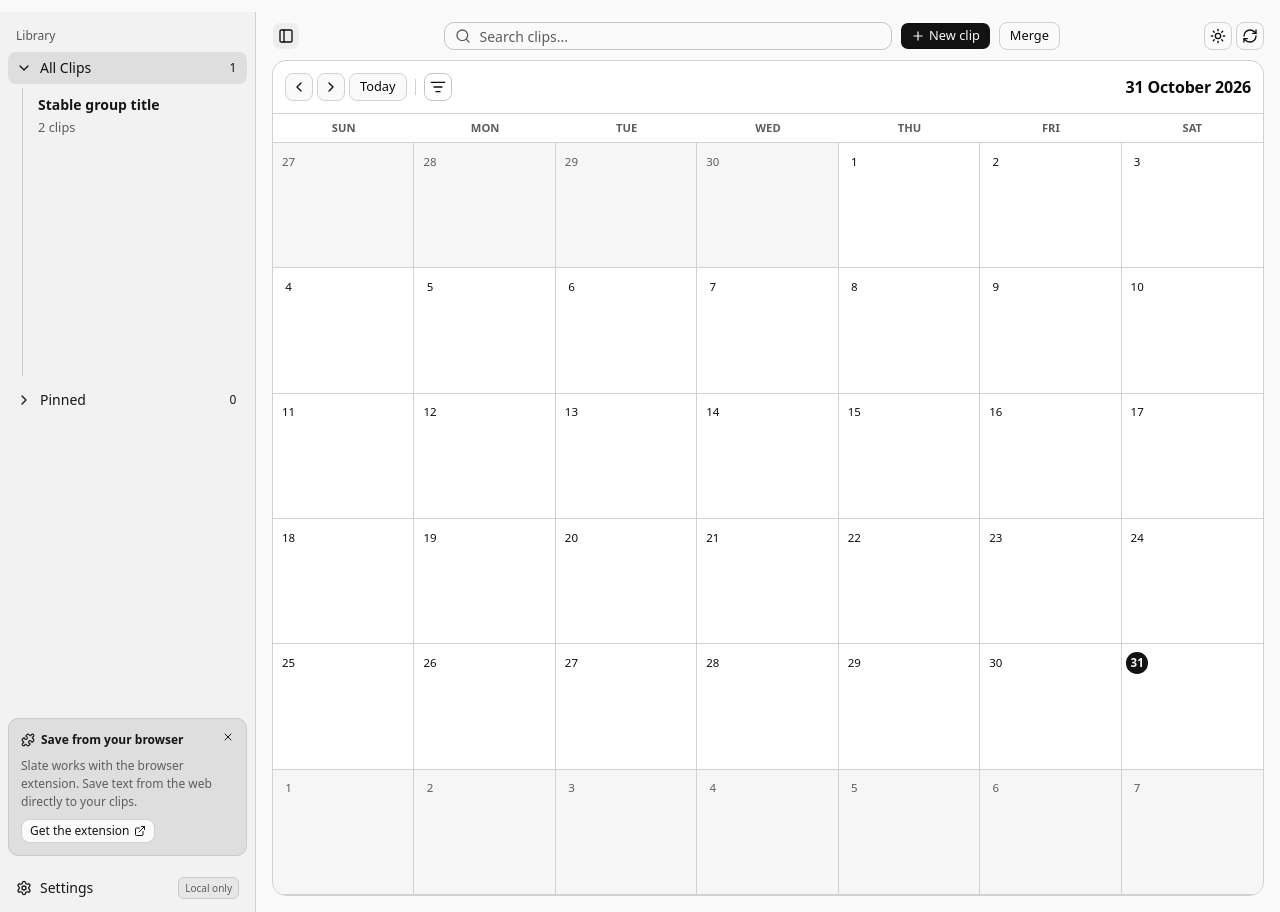
Test: native Close waits for save and hides only on success (failure: true)
Click the button "Stable group title 2 clips". click: (138, 116)
box: [29,88,247,144]
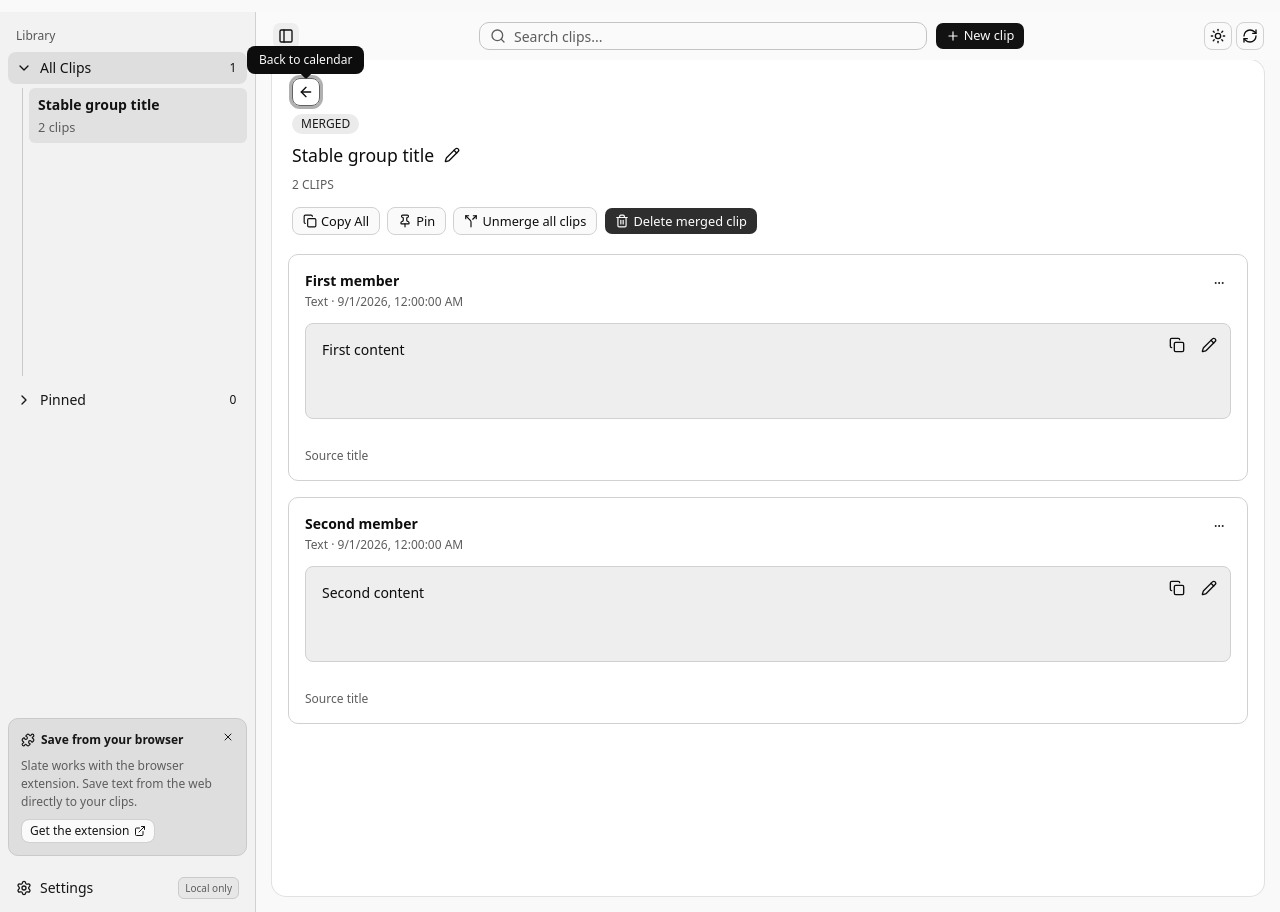
Now the heading "Stable group title" is shown, box [292,143,434,167]
Click the button named "Edit content: First member". click: (1209, 345)
box: [1195,331,1223,359]
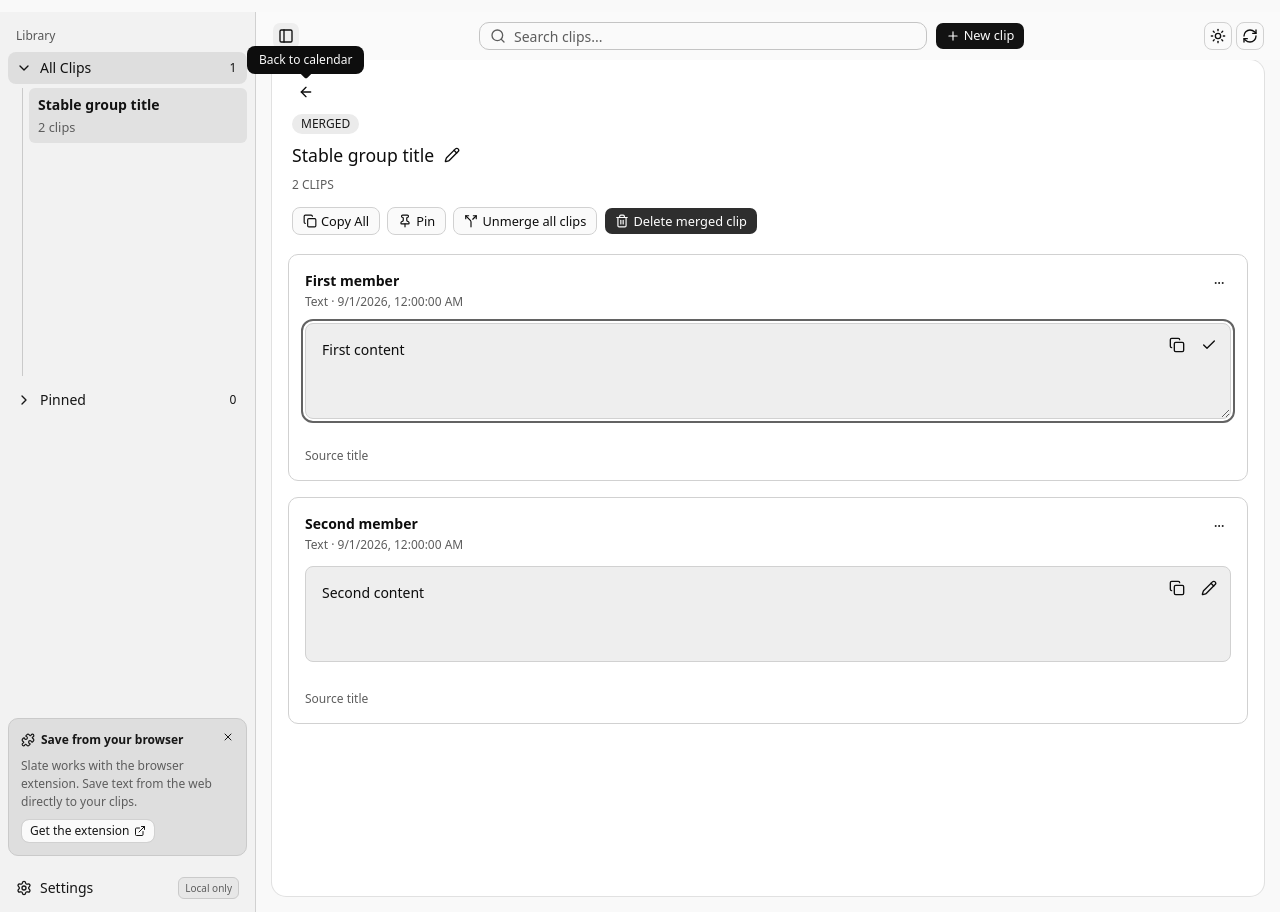
Replace the text in the text box named "Clip content: First member" with "Edited member content". click: (768, 371)
box: [305,323,1231,419]
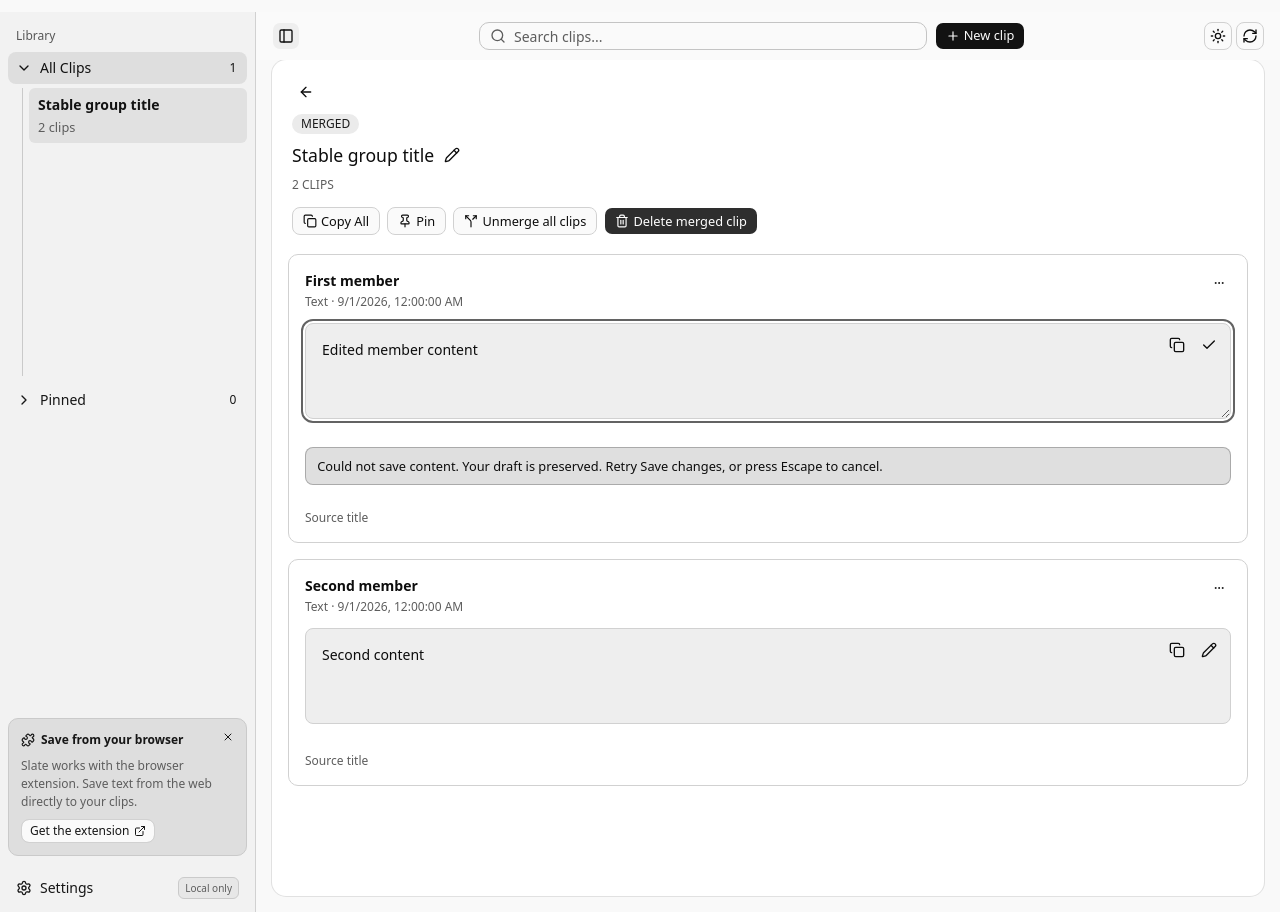
Now the text "Could not save content" is shown, box [317,457,883,475]
